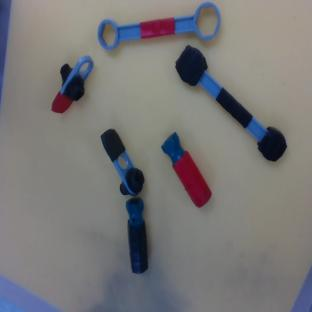part_1_bad: (89, 127, 151, 202)
part_1_good: (47, 49, 96, 118)
part_2_bad: (125, 197, 150, 274)
part_2_good: (158, 131, 214, 208)
part_3_bad: (167, 42, 293, 168)
part_3_good: (95, 1, 223, 51)
